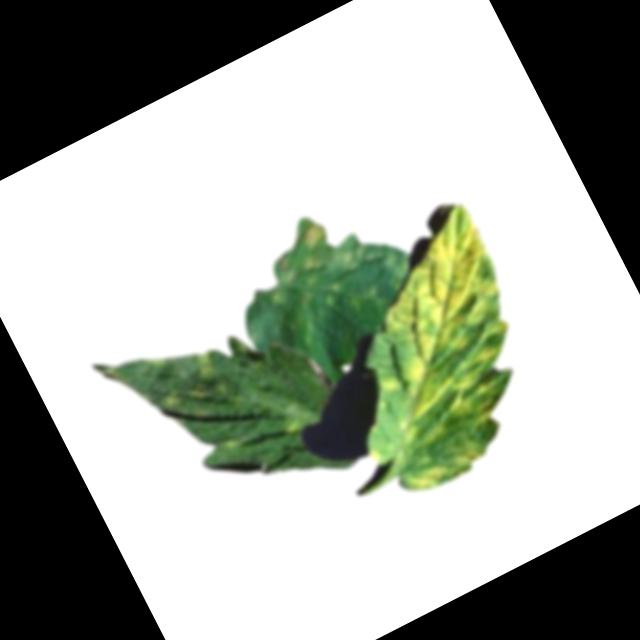Leaf_Mold: (288, 202, 577, 508), (261, 204, 374, 303), (152, 380, 196, 418), (186, 343, 222, 382)
